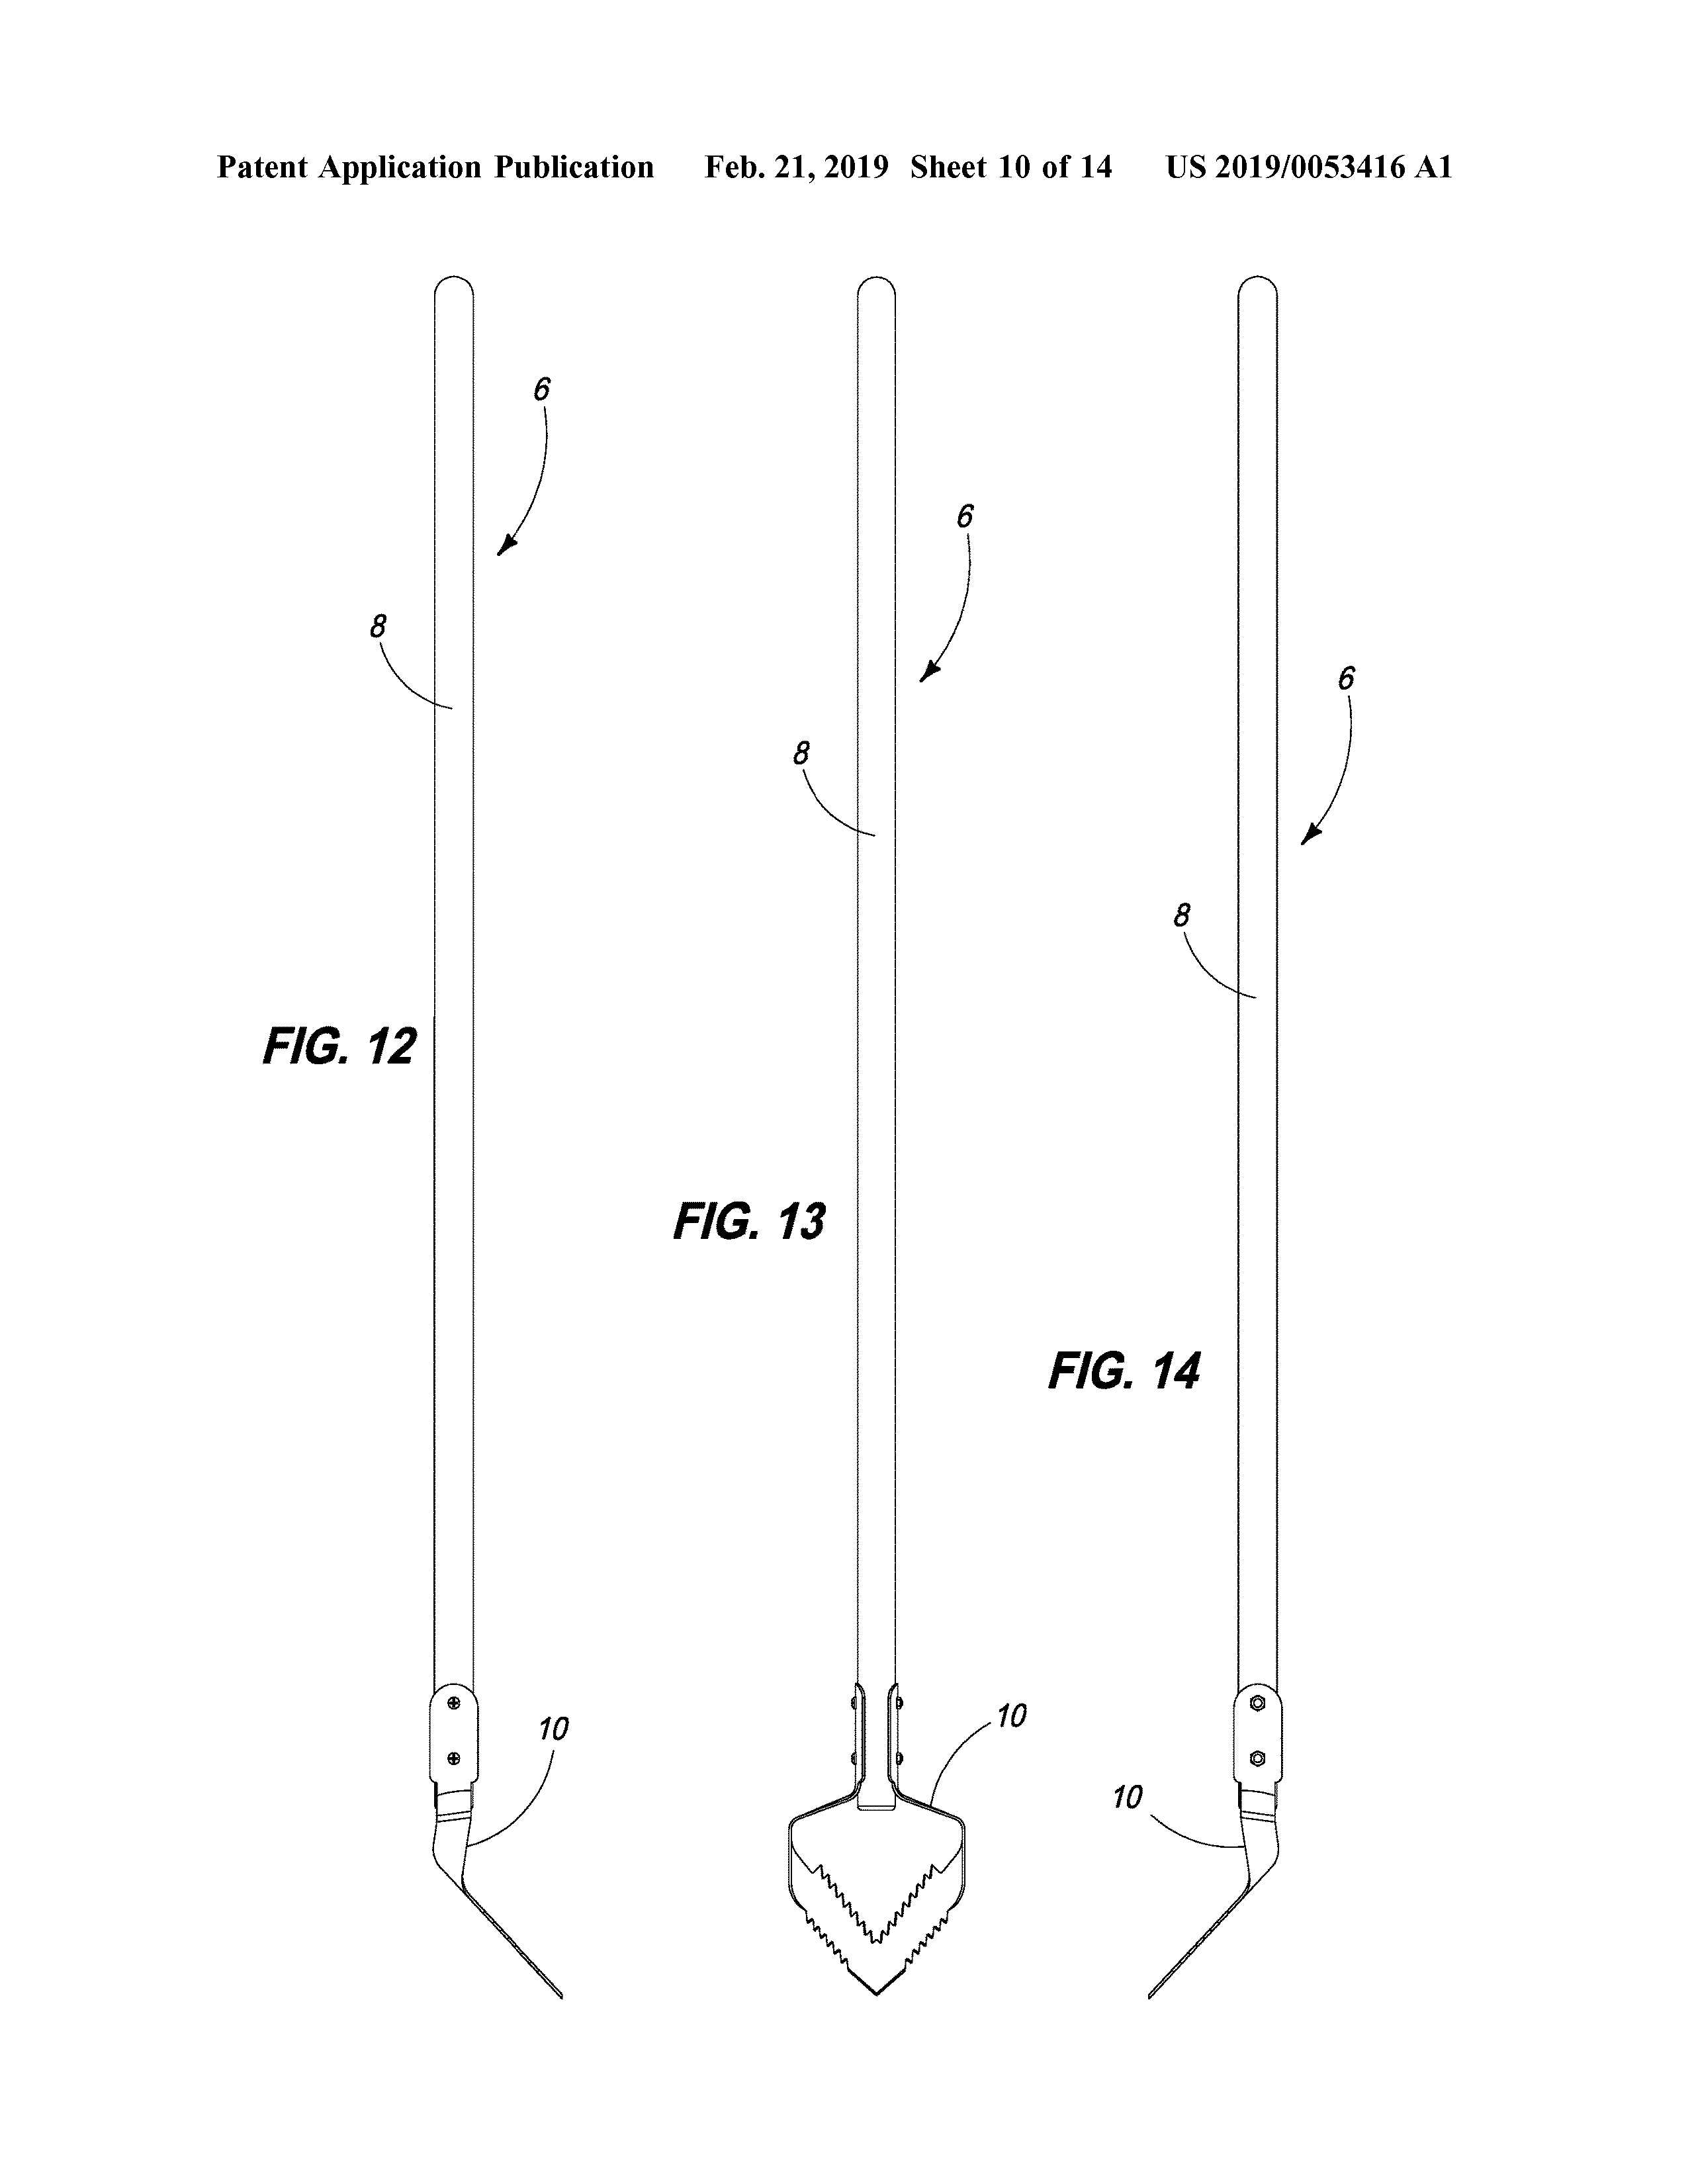10: (1107, 1767, 1150, 1826), (535, 1700, 578, 1759), (994, 1689, 1033, 1741)
6: (946, 491, 989, 539), (528, 363, 562, 415), (1331, 656, 1364, 706)
8: (365, 604, 399, 656), (1169, 888, 1203, 940), (785, 721, 819, 771)
FIG. 12: (234, 982, 441, 1092)
FIG. 13: (659, 1188, 852, 1253)
FIG. 14: (1033, 1338, 1226, 1399)
